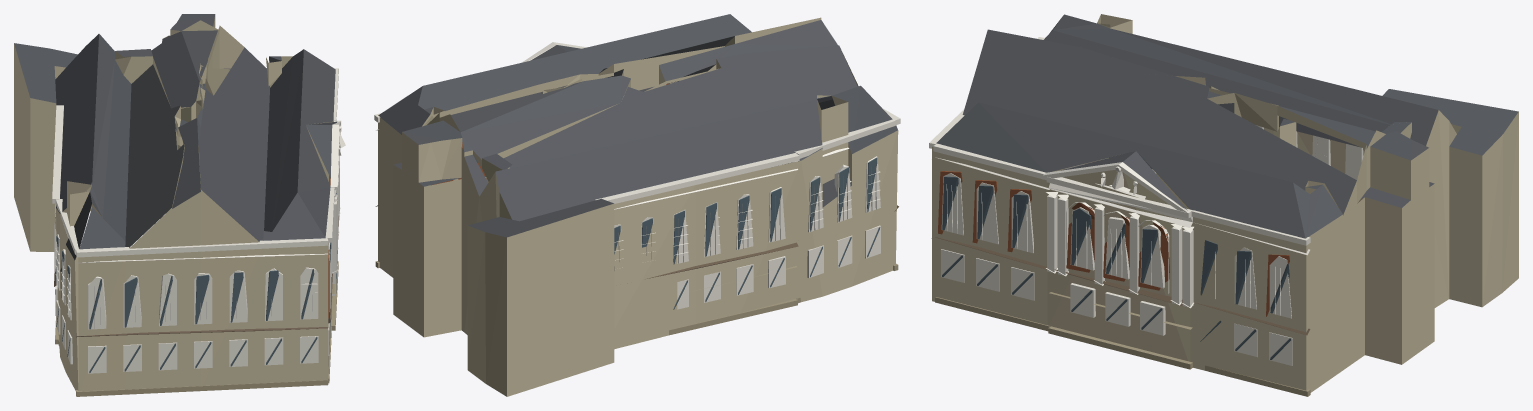
The model's file is compagnietheater.lod1.glb.
The picture shows the model from 3 angles, left to right: view 1: azimuth 30°, elevation 25°; view 2: azimuth 150°, elevation 25°; view 3: azimuth 270°, elevation 25°; orthographic projection. The views are drawn at different scales.
Visible parts, largest first — view 1: compagnietheater; view 2: compagnietheater; view 3: compagnietheater.
Part boxes in pixels (left/top/right/bottom): compagnietheater: left=14, top=14, right=345, bottom=396; compagnietheater: left=374, top=14, right=900, bottom=396; compagnietheater: left=929, top=14, right=1518, bottom=396.
Size of the model in its own units: 41.32 by 21.06 by 50.56.
